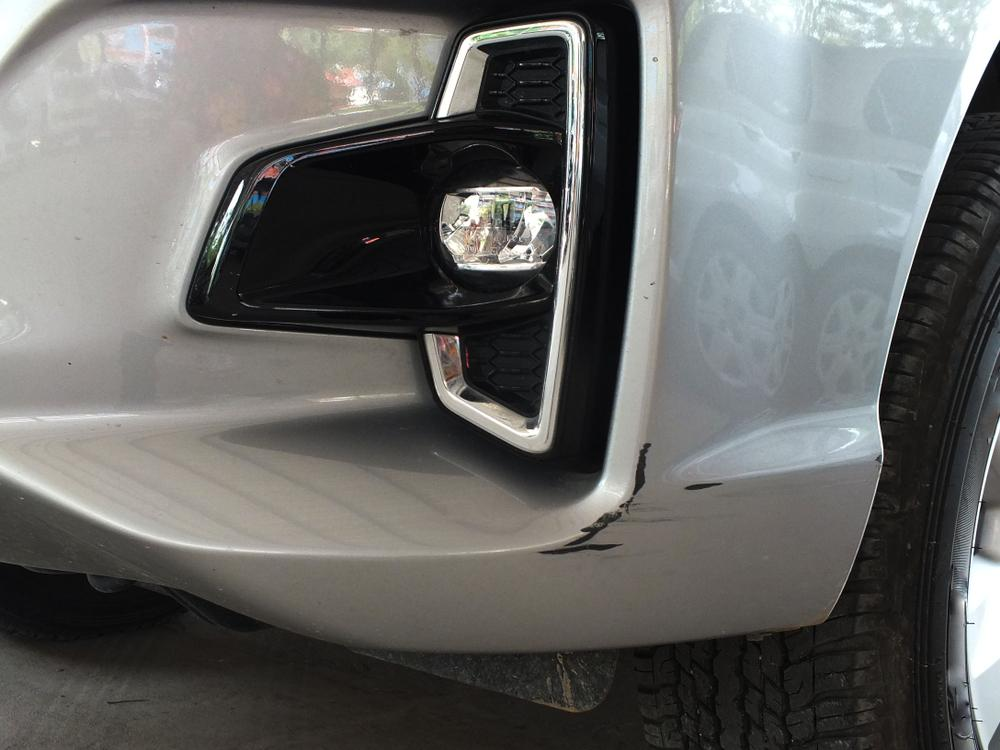scratch: (533, 439, 734, 559)
